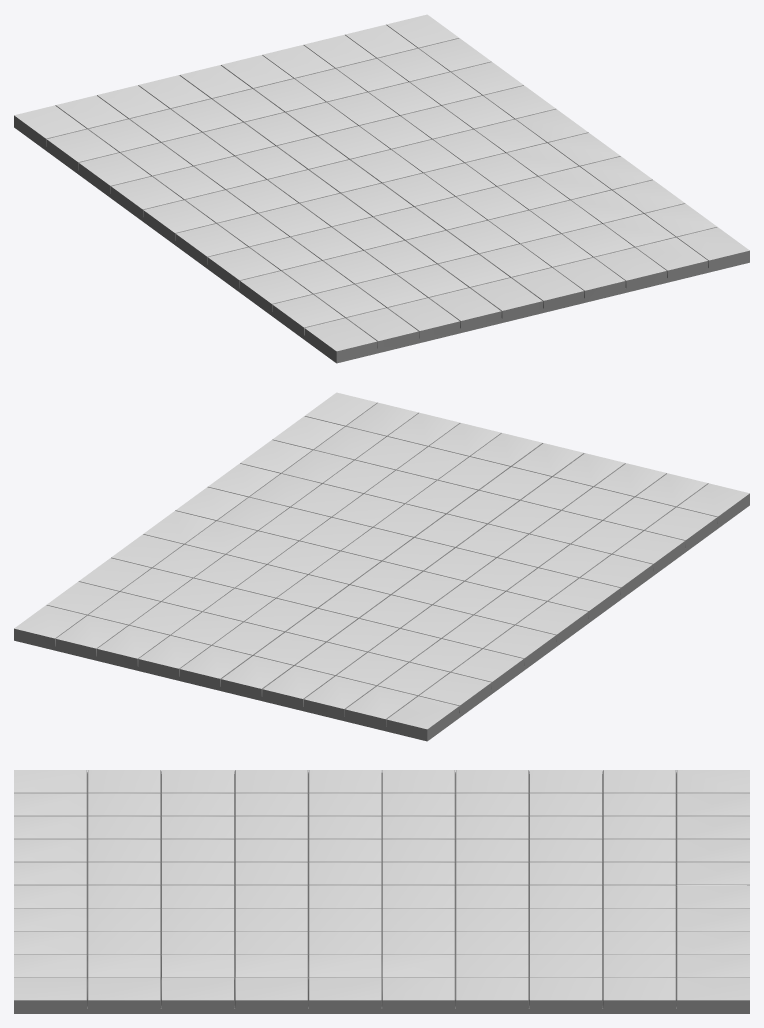
Rendered from Suelo.fbx.
3 renders of one model, top to bottom at view 1: azimuth 30°, elevation 25°; view 2: azimuth 150°, elevation 25°; view 3: azimuth 270°, elevation 25°, orthographic. The views are drawn at different scales.
Parts seen in each view (by area): view 1: Floor; view 2: Floor; view 3: Floor.
Part boxes in pixels (box(x1,y1,x2,y2)): Floor: box(14, 14, 749, 363); Floor: box(14, 392, 749, 741); Floor: box(14, 770, 749, 1013).
Bounding box in the file's own units: 1053 × 29.38 × 1423.
